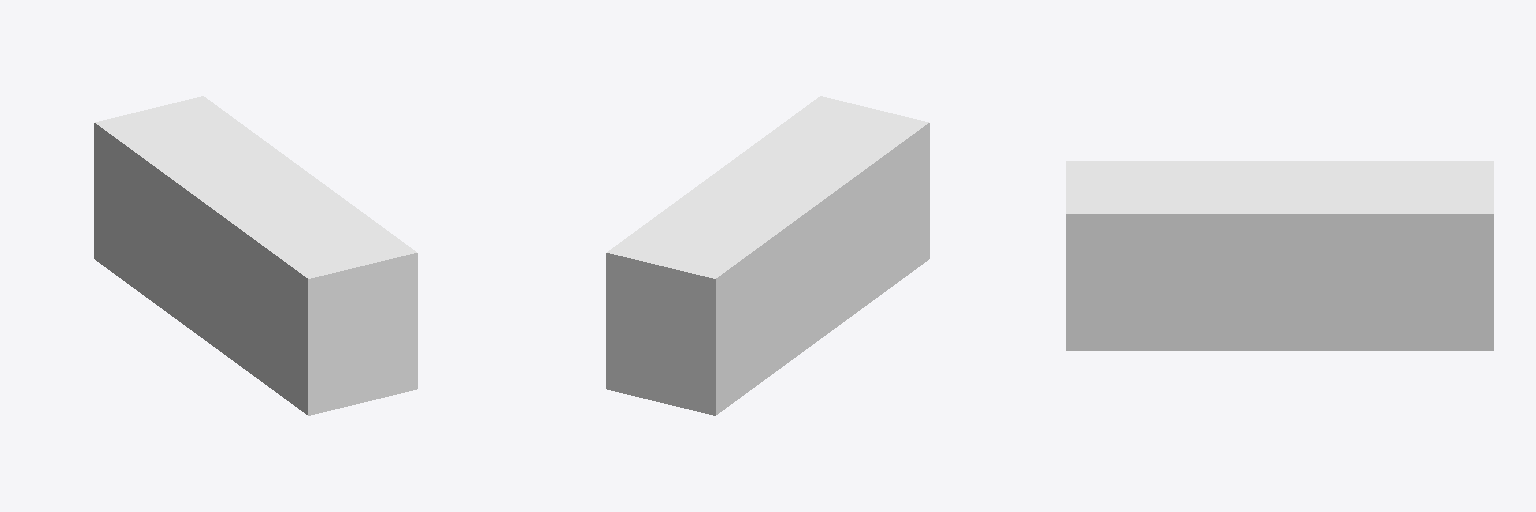
Rendered from LUppperarm.obj.
3 renders of one model, left to right at view 1: azimuth 30°, elevation 25°; view 2: azimuth 150°, elevation 25°; view 3: azimuth 270°, elevation 25°, orthographic.
Parts seen in each view (by area): view 1: object 1; view 2: object 1; view 3: object 1.
Part boxes in pixels (x1,y1,x2,y2): object 1: (94,96,417,415); object 1: (606,96,929,415); object 1: (1066,161,1493,350).
Size of the model in its own units: 0.5 by 0.6 by 1.7.